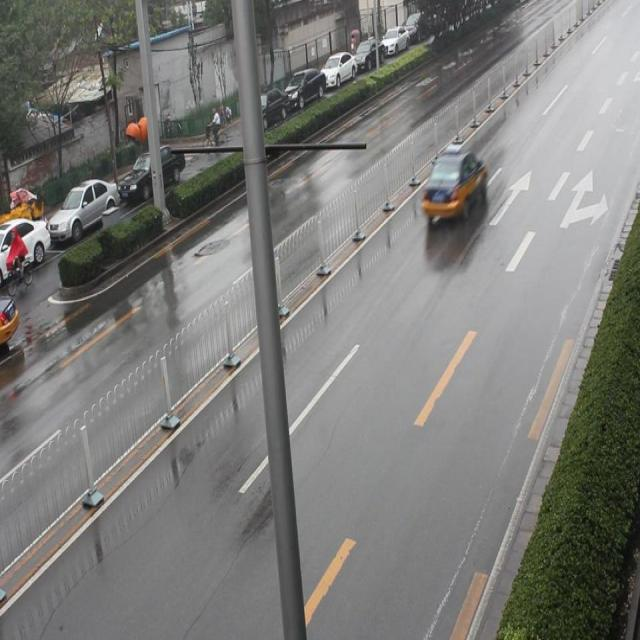car: (419, 140, 487, 227), (1, 289, 19, 355)
